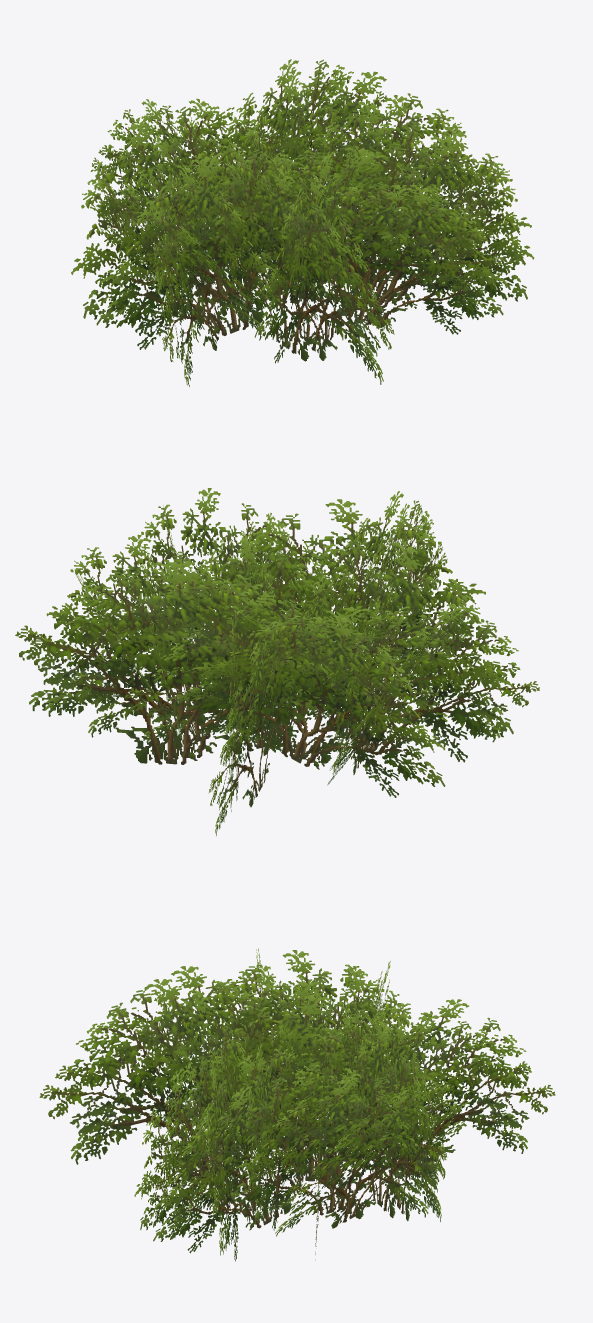
File: weed_tall_lod0.glb
3 renders of one model, top to bottom at view 1: azimuth 30°, elevation 25°; view 2: azimuth 150°, elevation 25°; view 3: azimuth 270°, elevation 25°, orthographic. The views are drawn at different scales.
Parts seen in each view (by area): view 1: weed_tall_lod0; view 2: weed_tall_lod0; view 3: weed_tall_lod0.
Boxes of the visible parts, bbox=[...] form: weed_tall_lod0: bbox=[71, 59, 534, 386]; weed_tall_lod0: bbox=[15, 488, 539, 835]; weed_tall_lod0: bbox=[39, 948, 555, 1261].
Bounding box in the file's own units: 14.6 × 7.96 × 15.43.
Materials: 1 (1 with a texture image).
